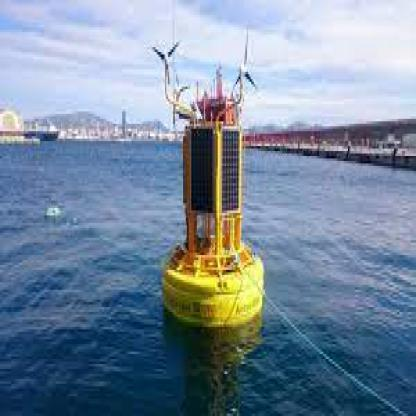buoy: (154, 37, 272, 337)
